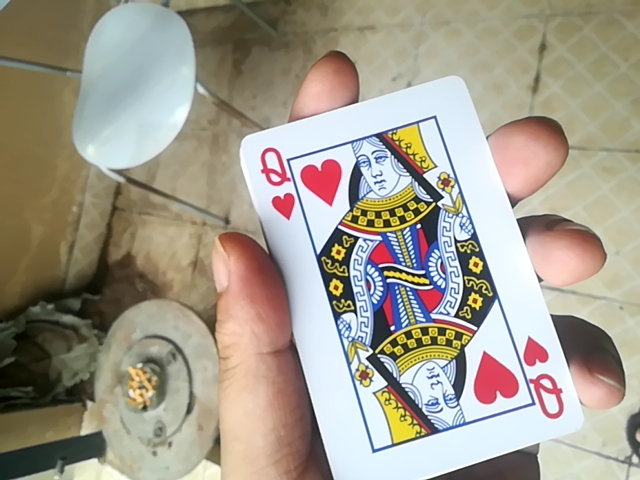hx q: (243, 64, 578, 480)
